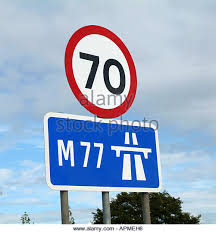Speed_limit_70km: (64, 24, 138, 119)
